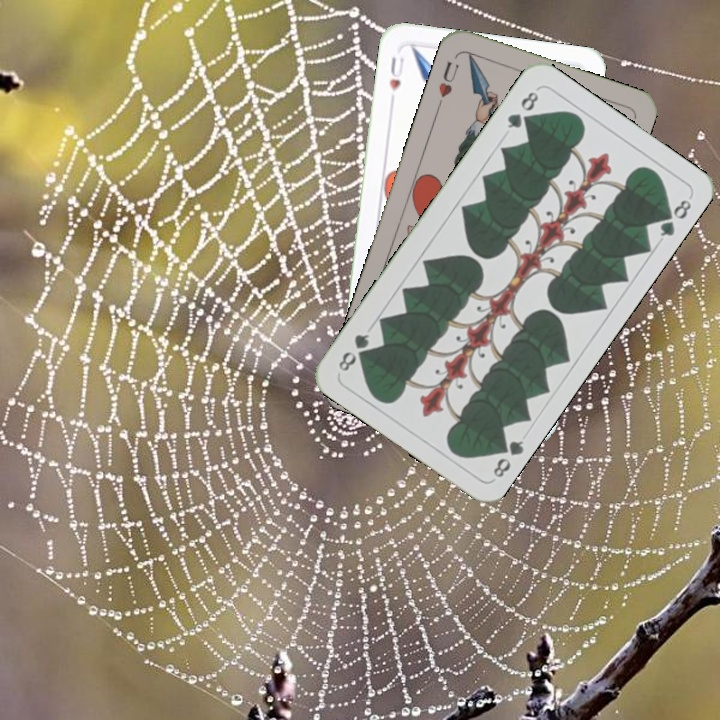G8: (489, 434, 527, 481), (503, 85, 541, 131)
HU: (434, 57, 462, 100), (385, 52, 407, 94)
